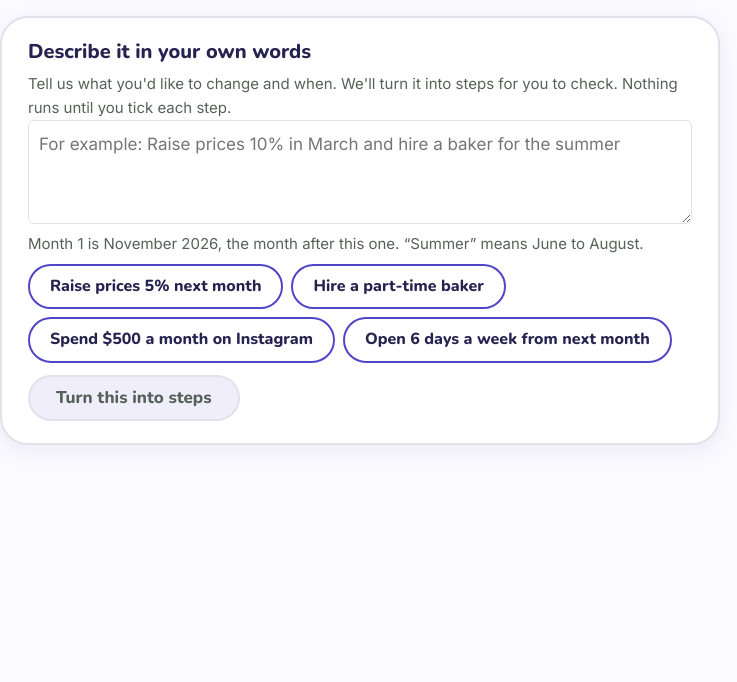
Scenario: DescribeBox › asks its questions in plain words, with the owner's words softly above each
Type "Raise prices a bit" into the text box named "What would you like to change?". click: (360, 172)
box: [28, 120, 692, 224]
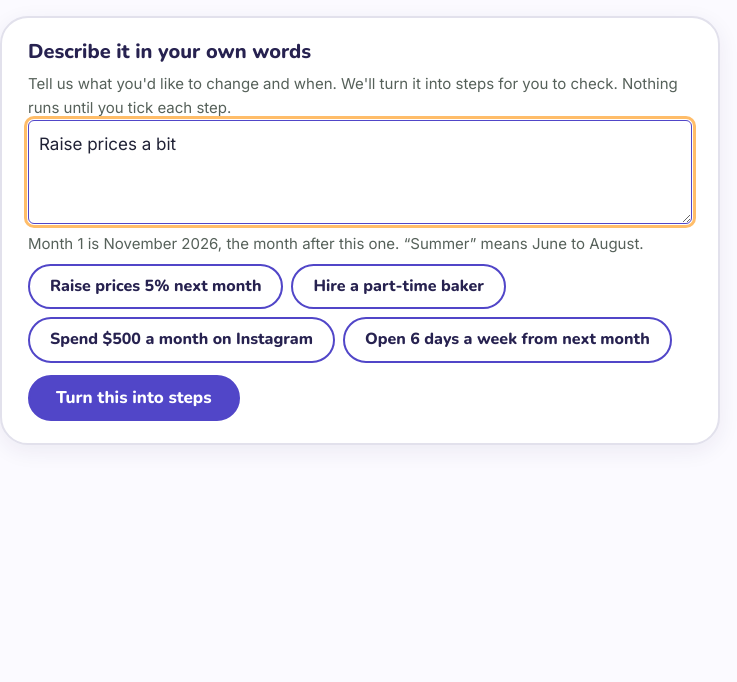
Click the button "Turn this into steps". click: click(134, 398)
box: [28, 375, 240, 421]
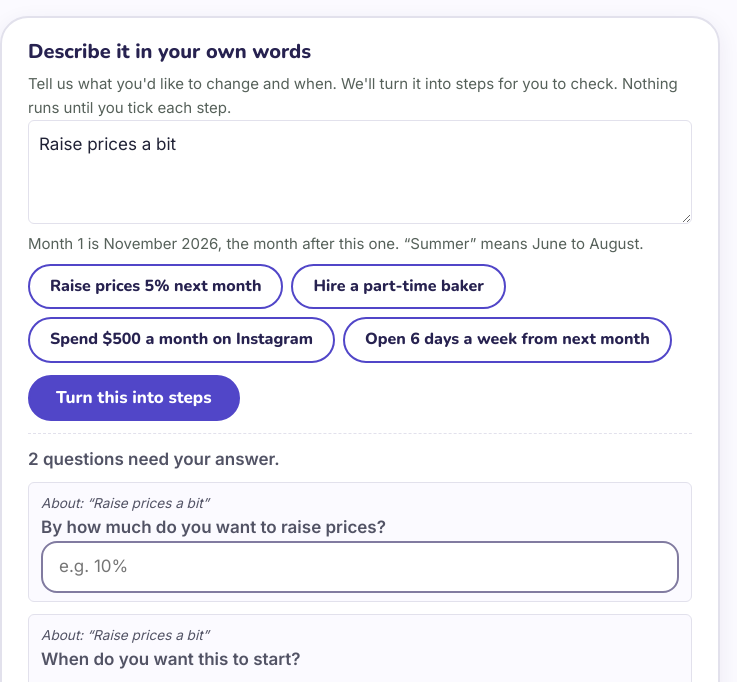
Check: the text "2 questions need your answer." is shown, box [28, 449, 280, 469]
Check: the text "About: “Raise prices a bit”" is shown 2 times, box [41, 494, 209, 510]; [41, 627, 209, 643]
Check: the field with placeholder "e.g. 10%" is shown, box [41, 542, 679, 593]
